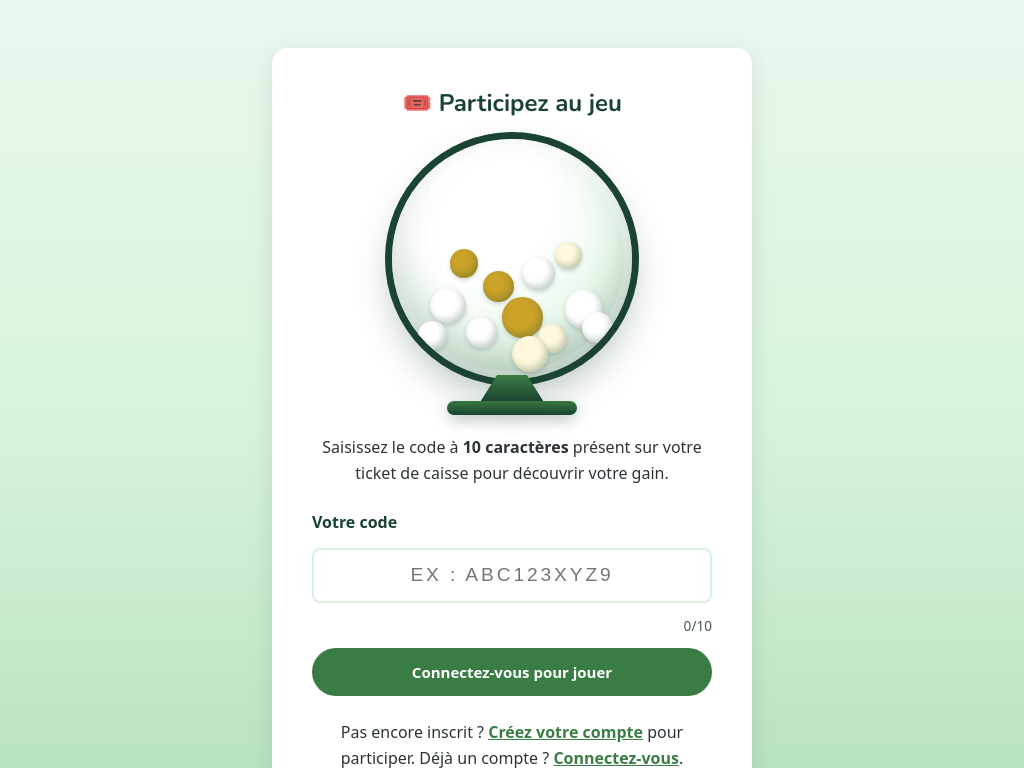
Test: EnterCode › normalise le code en majuscules alphanumériques
Type "ab c-12" into the field labelled "Votre code" at {"x": 512, "y": 575}, box [312, 548, 712, 603]
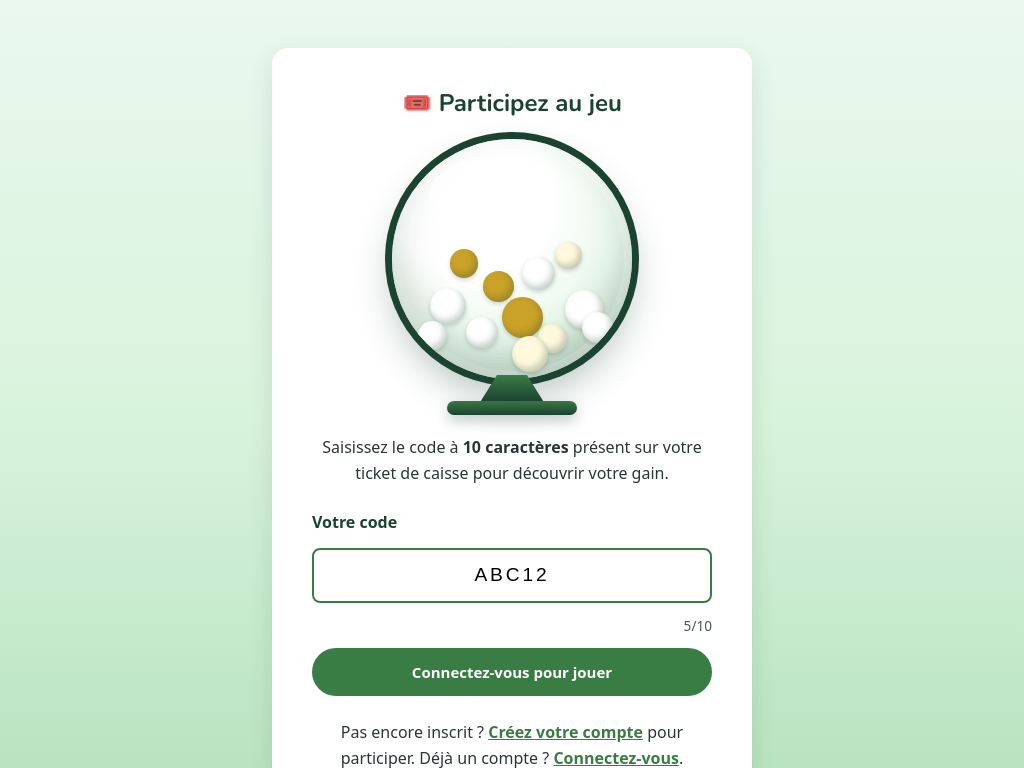
Result: the field labelled "Votre code" holds "ABC12" at [312, 548, 712, 603]
Result: the text "5/10" is shown at [684, 616, 712, 635]
